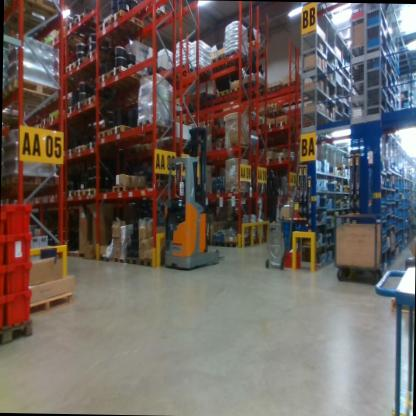forklift: (162, 121, 232, 278)
pallet: (5, 74, 64, 112), (19, 286, 72, 319), (5, 0, 65, 29), (1, 167, 62, 195), (96, 15, 134, 48), (0, 316, 37, 348), (110, 8, 145, 39), (107, 118, 147, 145), (137, 117, 180, 142), (108, 179, 153, 201), (72, 10, 105, 40), (107, 60, 143, 87), (220, 42, 250, 68), (63, 18, 89, 45), (137, 249, 167, 272), (217, 140, 251, 157), (281, 75, 304, 99), (146, 136, 174, 155), (83, 91, 106, 113), (227, 82, 248, 104), (86, 182, 108, 202), (62, 62, 83, 81), (215, 54, 236, 73), (62, 251, 84, 268), (95, 68, 114, 86), (188, 61, 208, 78), (246, 40, 268, 55), (276, 117, 294, 135), (273, 150, 293, 166), (87, 47, 103, 65), (74, 184, 88, 203), (223, 237, 240, 252), (124, 252, 142, 266), (85, 134, 98, 153), (96, 249, 113, 263), (95, 123, 107, 142), (135, 139, 151, 153), (74, 50, 85, 70), (73, 139, 85, 157), (62, 104, 74, 120), (61, 144, 73, 160), (113, 251, 126, 265), (208, 234, 222, 247), (73, 99, 85, 114), (216, 85, 228, 100), (45, 33, 56, 49), (39, 113, 50, 129), (48, 110, 58, 127), (263, 122, 276, 134), (263, 155, 274, 167), (62, 191, 74, 201), (206, 52, 216, 64), (30, 120, 39, 132), (202, 118, 211, 126)
small_load_carrier: (2, 224, 34, 273), (6, 282, 38, 328), (4, 202, 33, 247), (4, 254, 35, 295), (276, 248, 304, 283), (1, 207, 9, 240), (2, 234, 10, 267), (0, 266, 7, 298), (0, 294, 6, 327)
